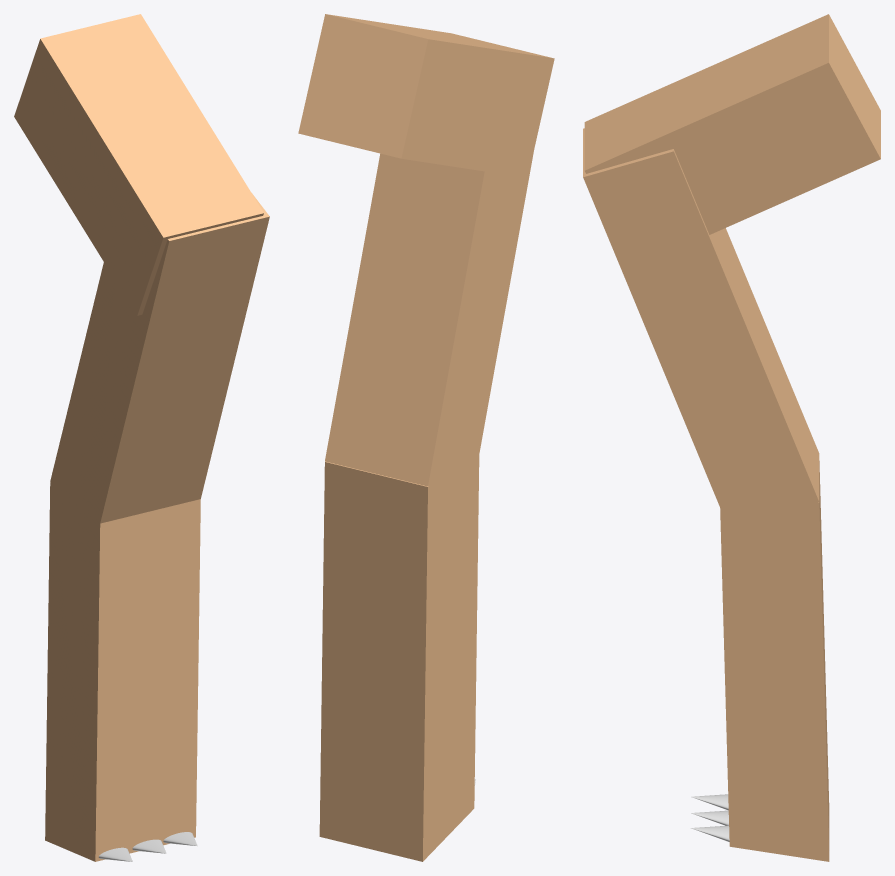
File: O&HlegL.FBX
3 renders of one model, left to right at view 1: azimuth 30°, elevation 25°; view 2: azimuth 150°, elevation 25°; view 3: azimuth 270°, elevation 25°, orthographic. The views are drawn at different scales.
Visible parts, largest first — view 1: Asi002, Asi, legLeft; view 2: Asi002, Asi, legLeft; view 3: Asi, legLeft, Asi002.
Boxes of the visible parts, x1=… form: Asi002: x1=45, y1=482, x2=200, y2=861; Asi: x1=50, y1=193, x2=269, y2=523; legLeft: x1=14, y1=14, x2=263, y2=315; Asi002: x1=319, y1=434, x2=479, y2=861; Asi: x1=325, y1=153, x2=533, y2=486; legLeft: x1=298, y1=14, x2=554, y2=177; Asi: x1=583, y1=128, x2=819, y2=528; legLeft: x1=584, y1=14, x2=880, y2=234; Asi002: x1=720, y1=461, x2=829, y2=861.
Bounding box in the file's own units: 0.3318 × 2.41 × 0.8161.
1 material, 1 textured.
